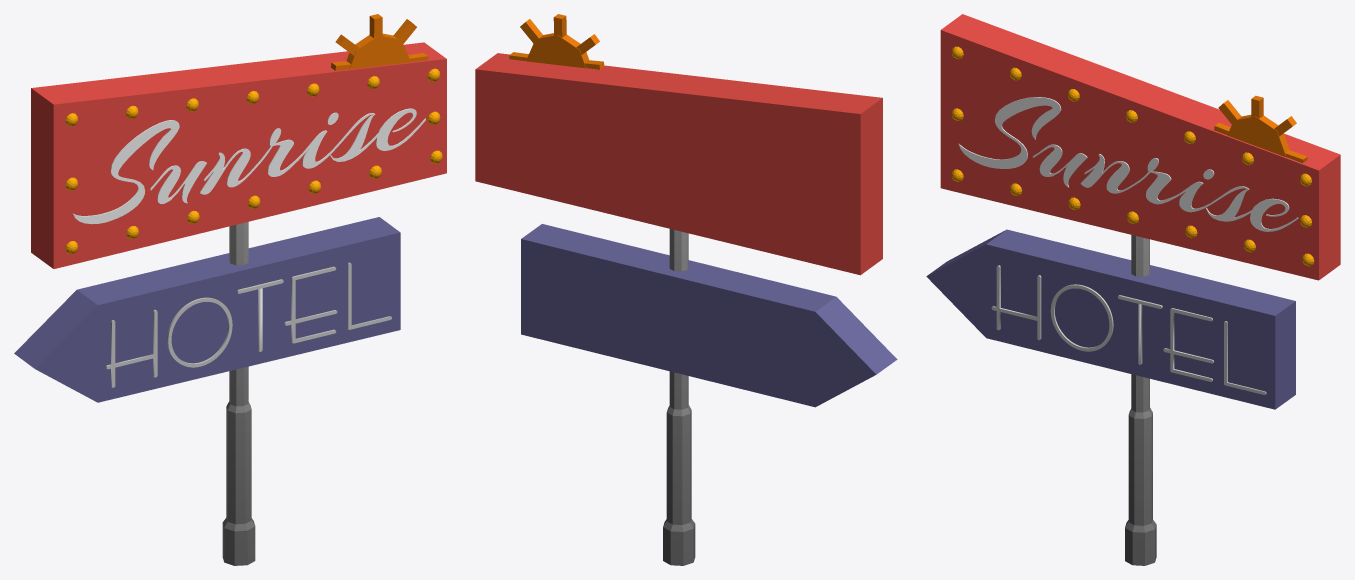
Rendered from Hotel_sign_04.fbx.
3 views of the same model, side by side, from view 1: azimuth 30°, elevation 25°; view 2: azimuth 150°, elevation 25°; view 3: azimuth 330°, elevation 25° (orthographic). The views are drawn at different scales.
Visible parts, largest first — view 1: Hotel_sign_04; view 2: Hotel_sign_04; view 3: Hotel_sign_04.
Boxes of the visible parts, x1,y1,x2,y2 form: Hotel_sign_04: (14,14,446,565); Hotel_sign_04: (475,14,897,565); Hotel_sign_04: (926,14,1340,565).
Size of the model in its own units: 209 by 251 by 22.96.
